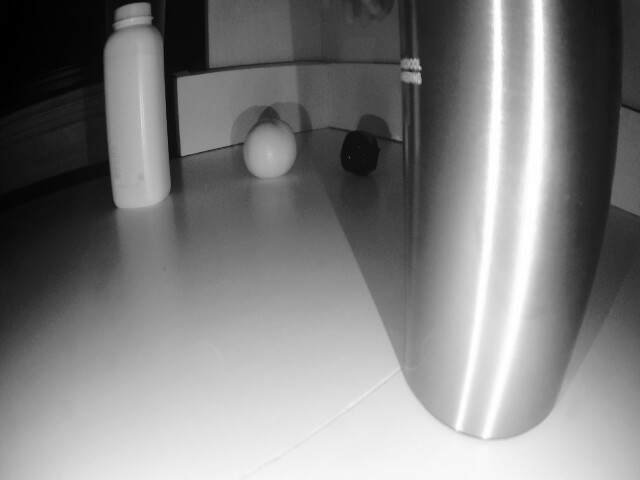black: (337, 119, 387, 186)
